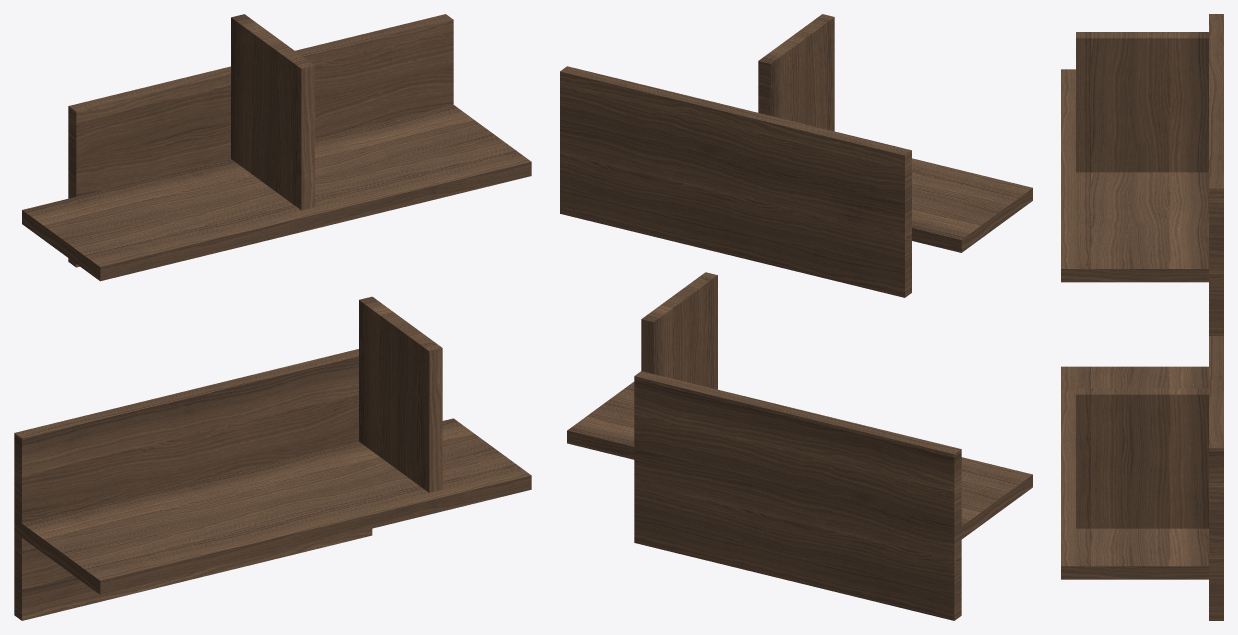
The model's file is Shelves.fbx.
3 renders of one model, left to right at view 1: azimuth 30°, elevation 25°; view 2: azimuth 150°, elevation 25°; view 3: azimuth 270°, elevation 25°, orthographic. The views are drawn at different scales.
Parts seen in each view (by area): view 1: Group3, Group4, Group7, Group6, Group8, Group2; view 2: Group3, Group6, Group7, Group8, Group2, Group4; view 3: Group2, Group8, Group7, Group4, Group6, Group3.
Boxes of the visible parts, box(x1,y1,x2,y2) form: Group3: box(14, 349, 372, 620); Group4: box(22, 418, 531, 594); Group7: box(22, 104, 531, 281); Group6: box(68, 14, 453, 267); Group8: box(231, 14, 314, 210); Group2: box(359, 296, 442, 492); Group3: box(634, 371, 961, 620); Group6: box(560, 66, 911, 297); Group7: box(912, 158, 1032, 252); Group8: box(758, 14, 834, 131); Group2: box(641, 272, 717, 389); Group4: box(567, 382, 1032, 539); Group2: box(1076, 388, 1208, 528); Group8: box(1076, 32, 1208, 172); Group7: box(1061, 69, 1208, 282); Group4: box(1061, 366, 1208, 579); Group6: box(1209, 14, 1223, 335); Group3: box(1209, 336, 1223, 620).
Size of the model in its own units: 81 by 99.12 by 27.94.
